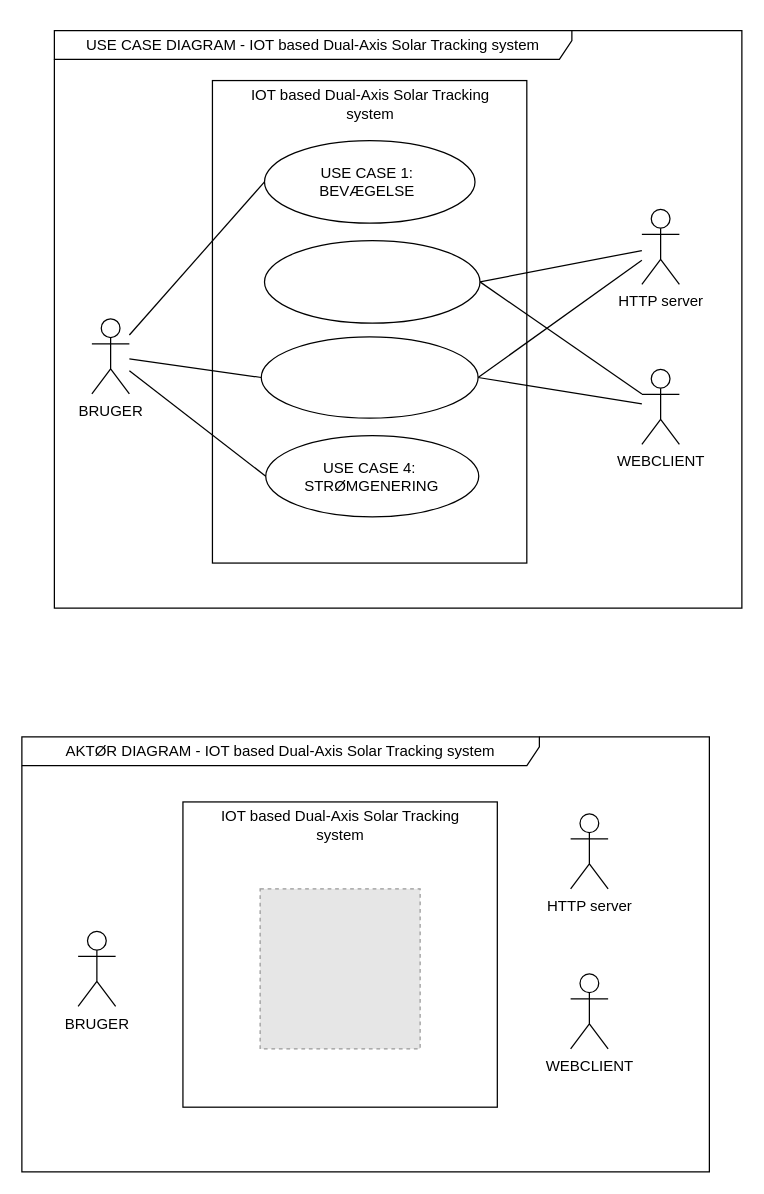
Some shapes in this 764 by 1194 pixel diagram are drawn without their labels. Grey dashed boxes stand in for pictures. The shapes that lost their labels are listed below. From the top down, each one's centre as x and y in pixels, then its label:
At pixel 371 281: "USE CASE 2: DATAINDSAMLING".
At pixel 369 377: "USE CASE 3: REAL-TIME MONITORING".
